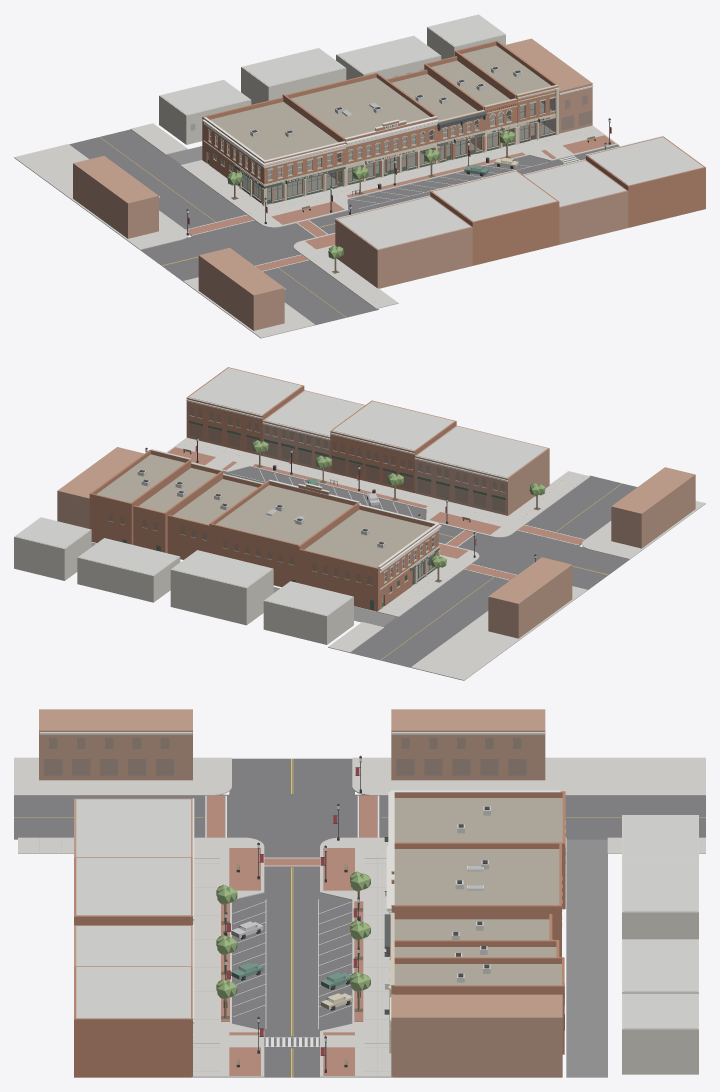
The model's file is clay-inglewood-main-street-clay-v001.glb.
3 views of the same model, one above another, from view 1: azimuth 30°, elevation 25°; view 2: azimuth 150°, elevation 25°; view 3: azimuth 270°, elevation 25° (orthographic). The views are drawn at different scales.
Parts seen in each view (by area): view 1: CLAY_NEIGHBOUR, CLAY_WALL, CLAY_MEMBRANE, CLAY_ASPHALT, CLAY_CONCRETE, CLAY_ROOF, CLAY_CONTEXT, CLAY_GLASS, CLAY_WHITE, CLAY_FLOOR, CLAY_PAVER, CLAY_STONE (+5 smaller); view 2: CLAY_WALL, CLAY_MEMBRANE, CLAY_NEIGHBOUR, CLAY_ASPHALT, CLAY_CONCRETE, CLAY_ROOF, CLAY_CONTEXT, CLAY_GLASS, CLAY_PAVER, CLAY_WHITE, CLAY_FRAME, CLAY_PLANTING (+2 smaller); view 3: CLAY_MEMBRANE, CLAY_ASPHALT, CLAY_NEIGHBOUR, CLAY_CONCRETE, CLAY_ROOF, CLAY_WALL, CLAY_LANE, CLAY_PAVER, CLAY_CONTEXT, CLAY_GLASS, CLAY_WHITE, CLAY_MARKING (+5 smaller).
Boxes of the visible parts, box(x1,y1,x2,y2) form: CLAY_NEIGHBOUR: box(73, 38, 628, 330); CLAY_WALL: box(202, 40, 705, 265); CLAY_MEMBRANE: box(160, 15, 703, 249); CLAY_ASPHALT: box(69, 129, 619, 325); CLAY_CONCRETE: box(14, 123, 618, 338); CLAY_ROOF: box(210, 45, 551, 160); CLAY_CONTEXT: box(159, 14, 505, 144); CLAY_GLASS: box(191, 69, 591, 199); CLAY_WHITE: box(159, 85, 663, 289); CLAY_FLOOR: box(210, 102, 553, 199); CLAY_PAVER: box(186, 135, 615, 270); CLAY_STONE: box(203, 84, 559, 206); CLAY_WALL: box(89, 367, 456, 611); CLAY_MEMBRANE: box(15, 368, 547, 615); CLAY_NEIGHBOUR: box(57, 390, 695, 638); CLAY_ASPHALT: box(223, 466, 637, 667); CLAY_CONCRETE: box(166, 437, 705, 680); CLAY_ROOF: box(96, 454, 430, 567); CLAY_CONTEXT: box(14, 517, 353, 644); CLAY_GLASS: box(109, 407, 504, 602); CLAY_PAVER: box(167, 447, 584, 579); CLAY_WHITE: box(186, 397, 611, 598); CLAY_FRAME: box(122, 420, 505, 610); CLAY_PLANTING: box(252, 440, 545, 568); CLAY_MEMBRANE: box(76, 799, 697, 1028); CLAY_ASPHALT: box(14, 758, 705, 1077); CLAY_NEIGHBOUR: box(39, 709, 562, 1077); CLAY_CONCRETE: box(14, 757, 705, 1077); CLAY_ROOF: box(394, 798, 562, 985); CLAY_WALL: box(74, 791, 565, 1077); CLAY_LANE: box(566, 839, 607, 1077); CLAY_PAVER: box(207, 795, 377, 1075); CLAY_CONTEXT: box(622, 815, 698, 1074); CLAY_GLASS: box(44, 737, 564, 1003); CLAY_WHITE: box(39, 732, 560, 1041); CLAY_MARKING: box(205, 795, 379, 1046).
Size of the model in its own units: 108 by 11.74 by 99.
